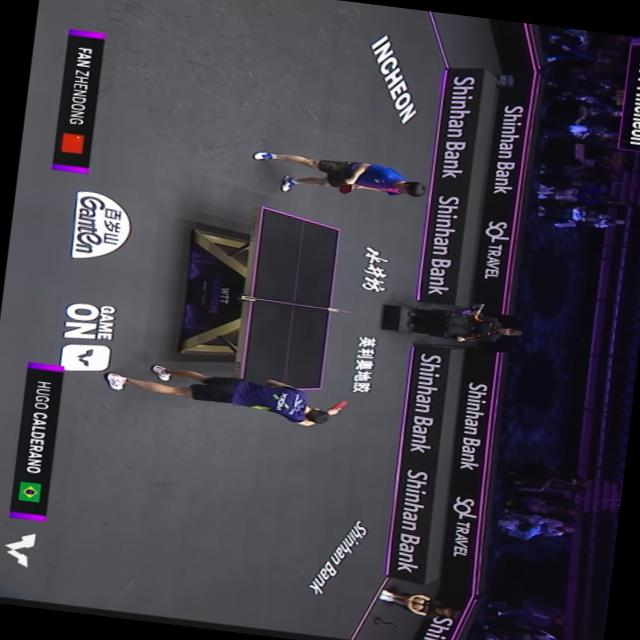TT Net: (244, 295, 354, 315)
TT Racket: (327, 397, 350, 416), (336, 182, 352, 193)
TT Table: (238, 206, 340, 398)
